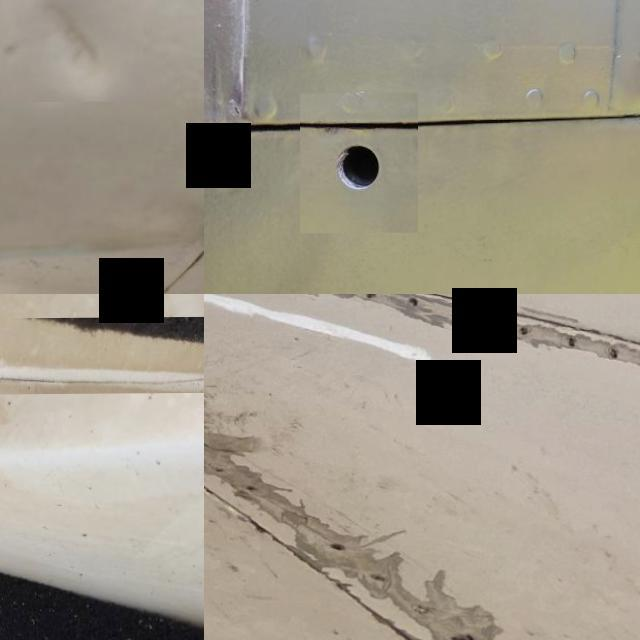Crack: (0, 373, 204, 391)
Dent: (3, 0, 142, 103)
Missing_Fastener: (300, 94, 418, 234), (514, 326, 533, 337), (404, 298, 419, 310), (331, 543, 346, 552), (363, 294, 378, 300)
